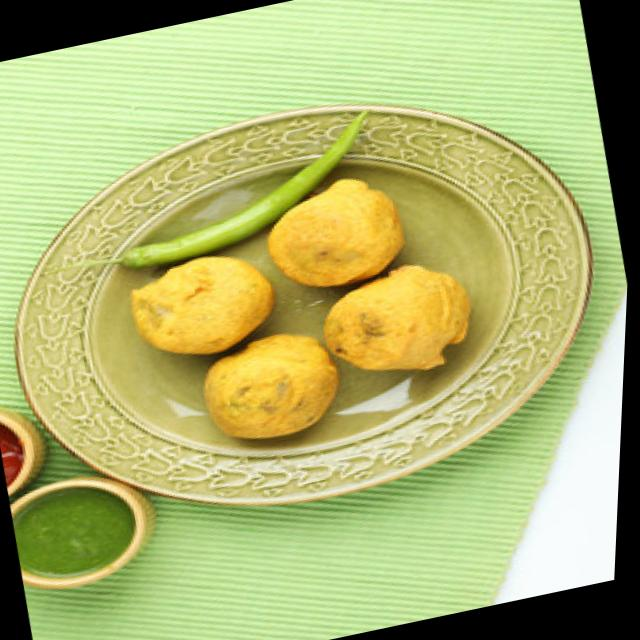BONDA: (204, 265, 465, 435), (267, 178, 401, 283), (131, 254, 272, 352)
GREEN CHUTNEY: (12, 486, 133, 574)
